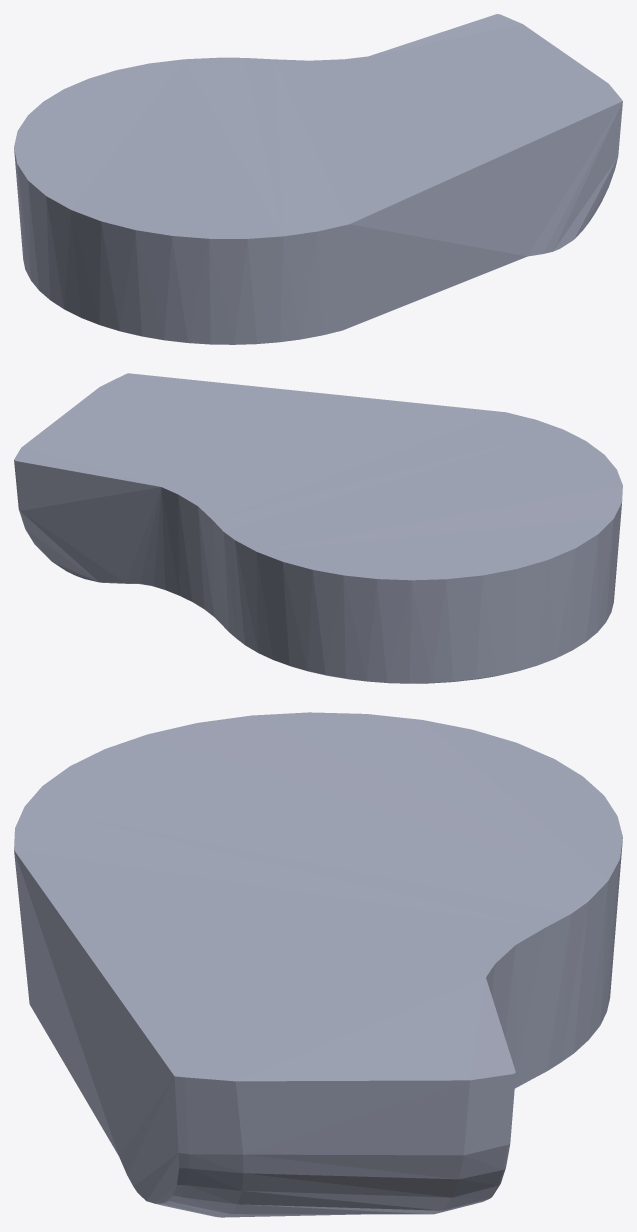
File: shank_r.obj
The picture shows the model from 3 angles, top to bottom: view 1: azimuth 30°, elevation 25°; view 2: azimuth 150°, elevation 25°; view 3: azimuth 270°, elevation 25°; orthographic projection. The views are drawn at different scales.
Parts seen in each view (by area): view 1: AM3_Leg_001-mesh; view 2: AM3_Leg_001-mesh; view 3: AM3_Leg_001-mesh.
Part boxes in pixels (x1,y1,x2,y2): AM3_Leg_001-mesh: [14, 14, 622, 344]; AM3_Leg_001-mesh: [14, 373, 622, 683]; AM3_Leg_001-mesh: [14, 712, 622, 1217].
Size of the model in its own units: 0.2038 by 0.0469 by 0.1418.
